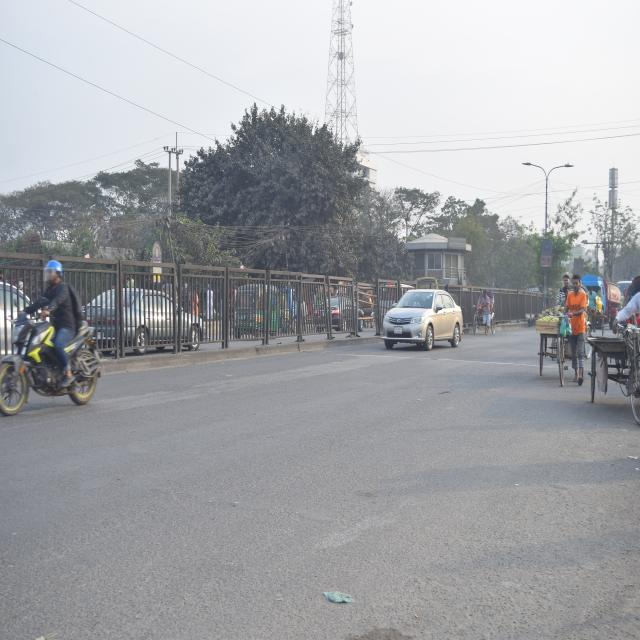car: (89, 282, 196, 364), (380, 278, 462, 358)
motorbike: (0, 314, 101, 424)
